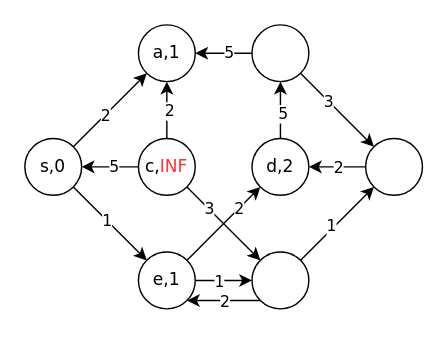
Image size: 447x338. Some labels were removed from this diagram. Each missing label, with the centre of its shape:
"b, 3" belongs at (280,52).
"f,2" belongs at (280,280).
"t,3" belongs at (393,166).
